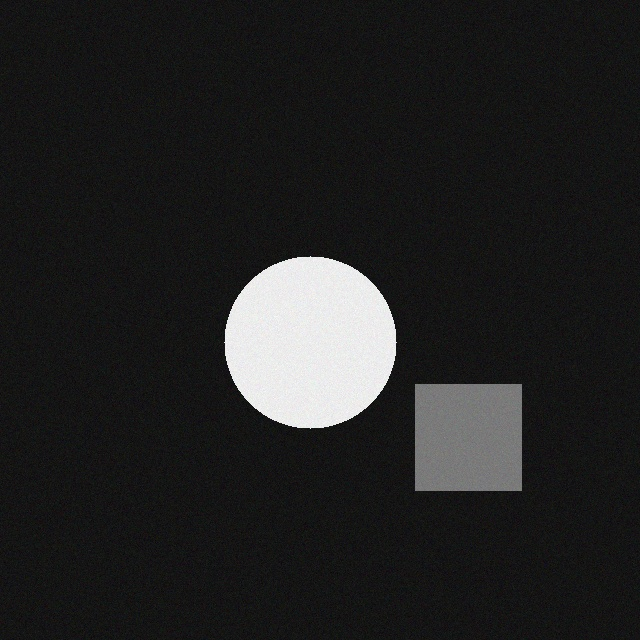circle: (216, 258, 388, 430)
square: (407, 386, 513, 492)
